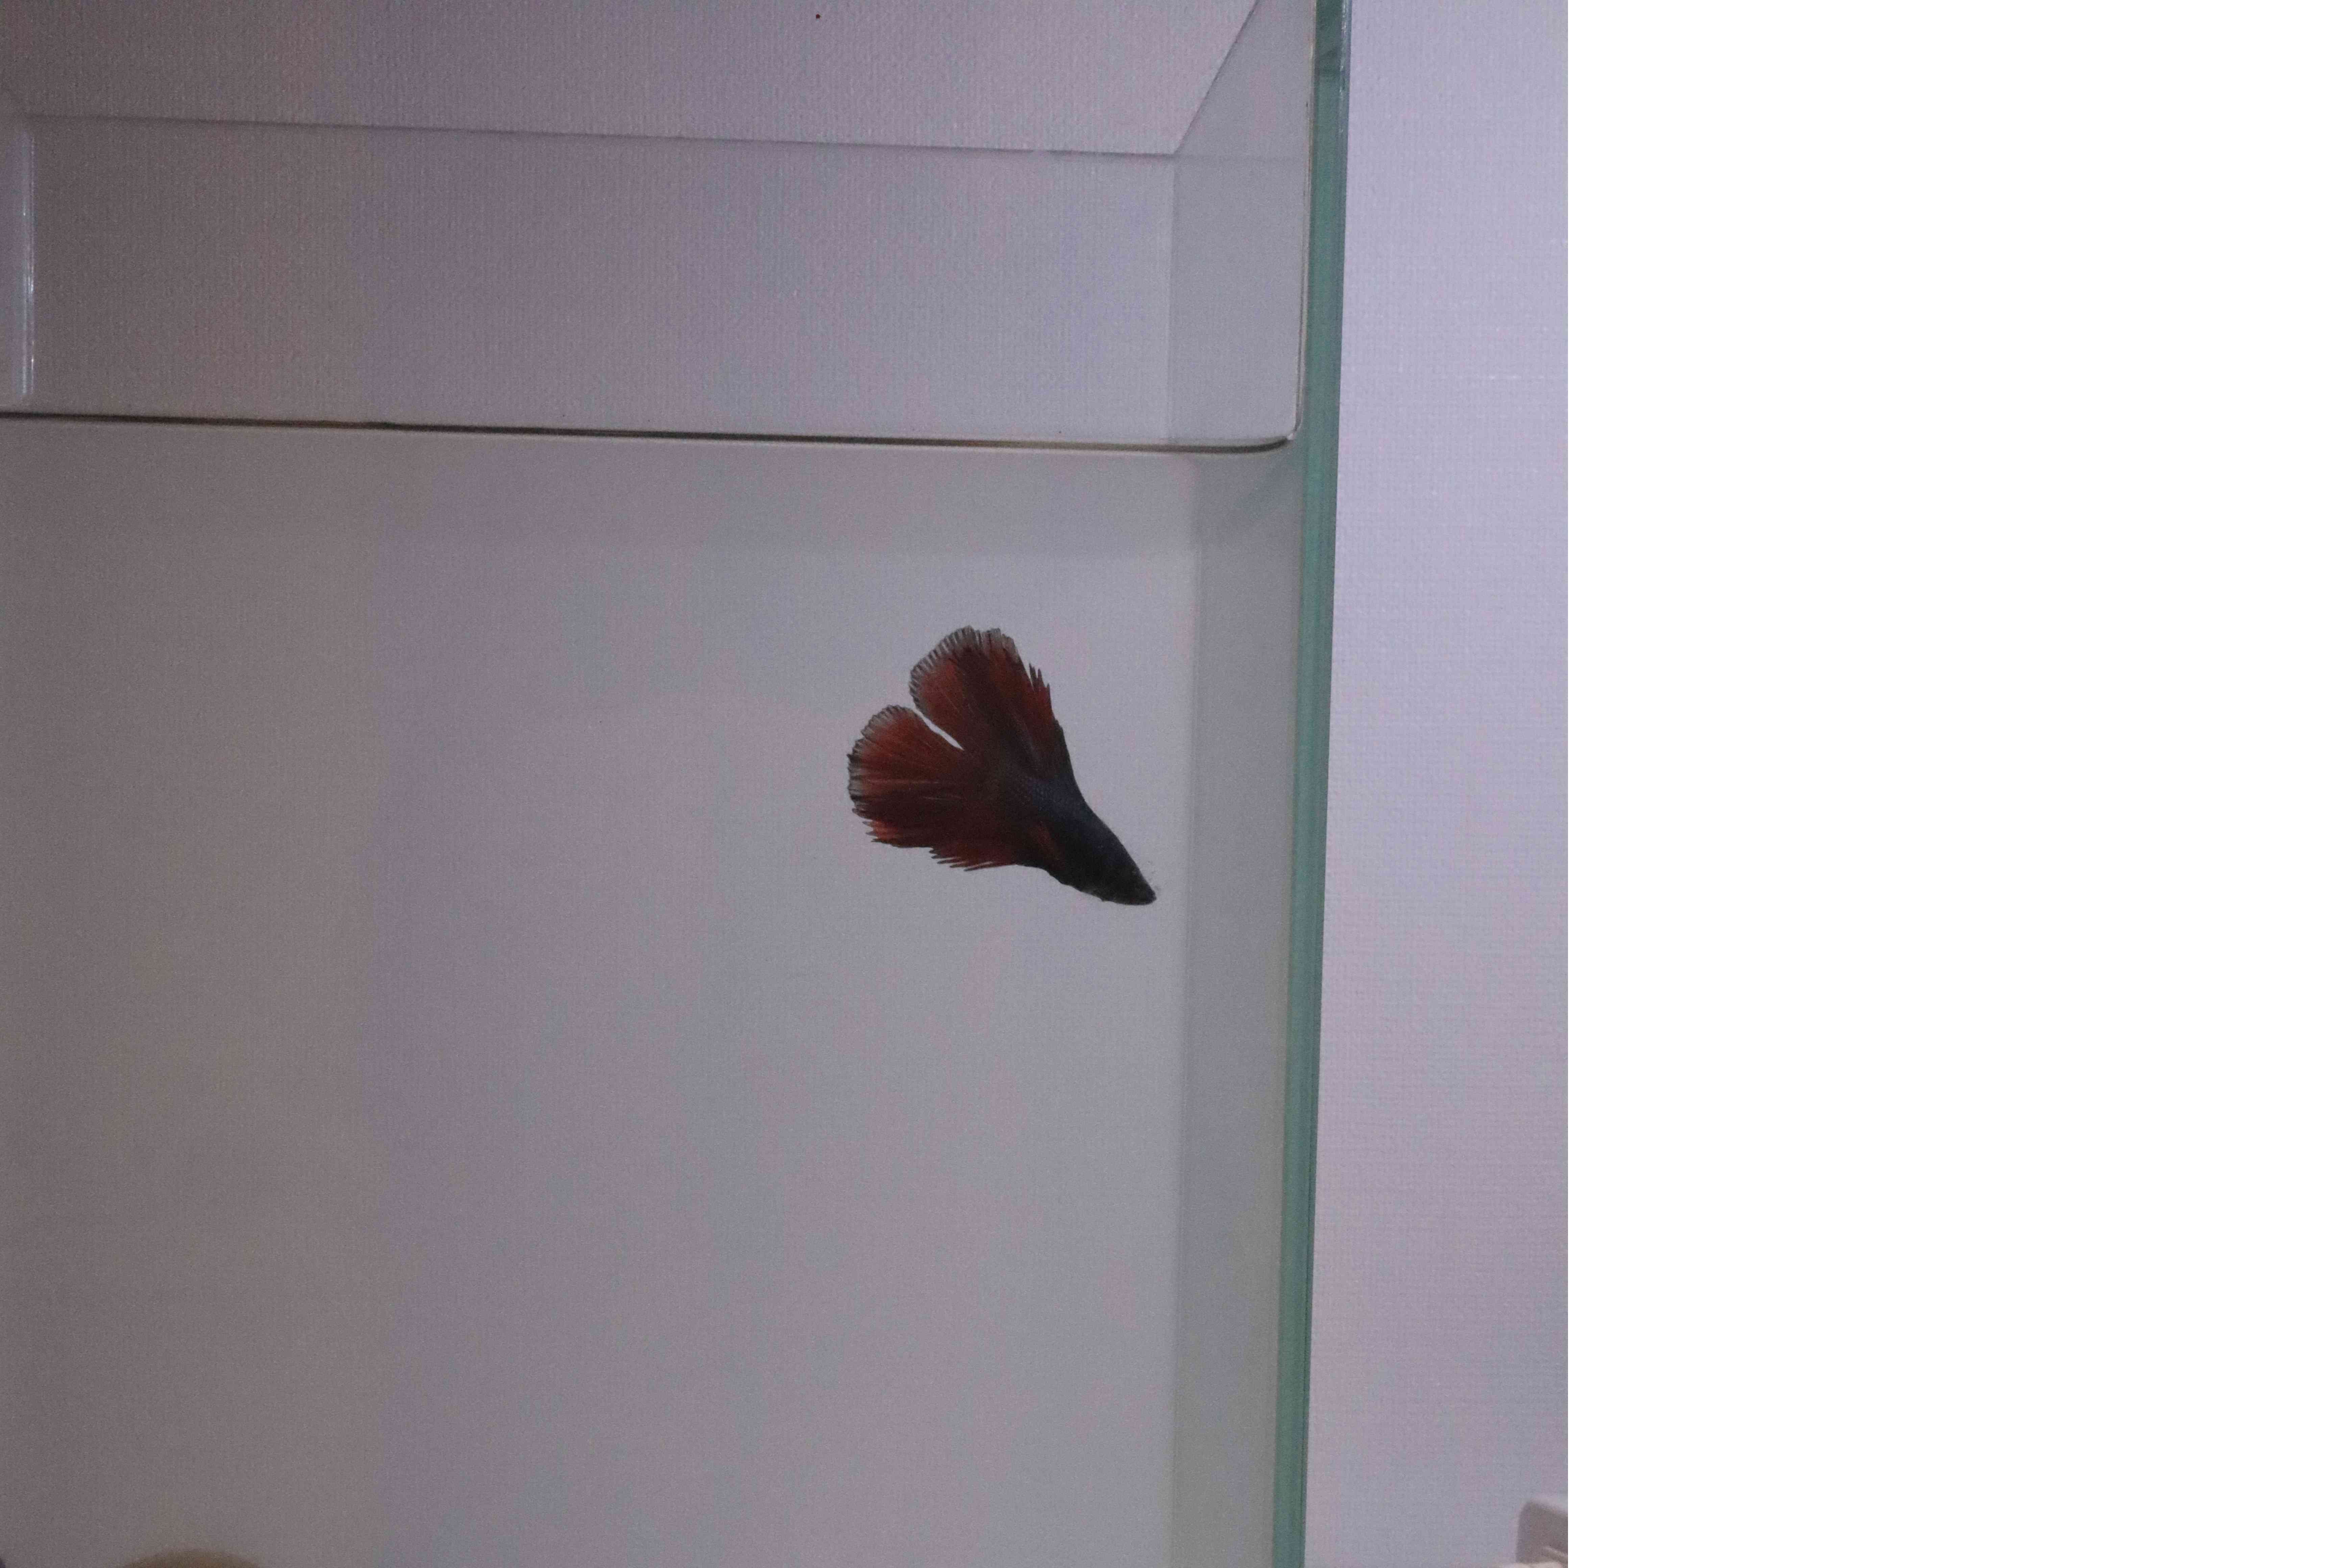fish: (845, 623, 1167, 933)
